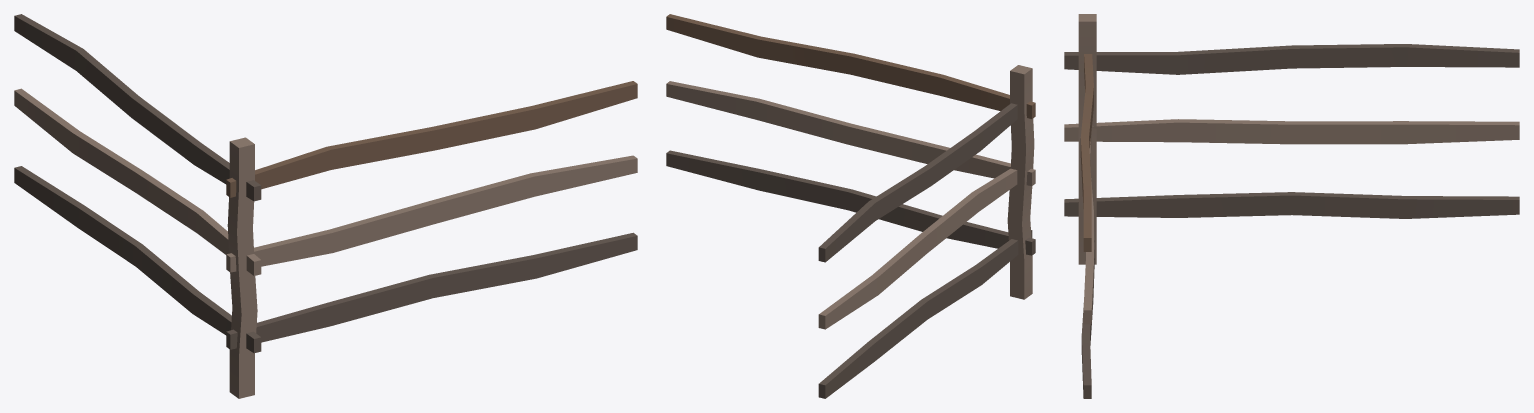
File: Fence_L_Section_NoPosts.fbx
The picture shows the model from 3 angles, left to right: view 1: azimuth 30°, elevation 25°; view 2: azimuth 150°, elevation 25°; view 3: azimuth 270°, elevation 25°; orthographic projection. The views are drawn at different scales.
Visible parts, largest first — view 1: polySurface18; view 2: polySurface18; view 3: polySurface18.
Part boxes in pixels (x1,y1,x2,y2): polySurface18: [14, 14, 637, 398]; polySurface18: [666, 14, 1035, 398]; polySurface18: [1064, 14, 1519, 398].
Bounding box in the file's own units: 25.48 × 15 × 25.48.
